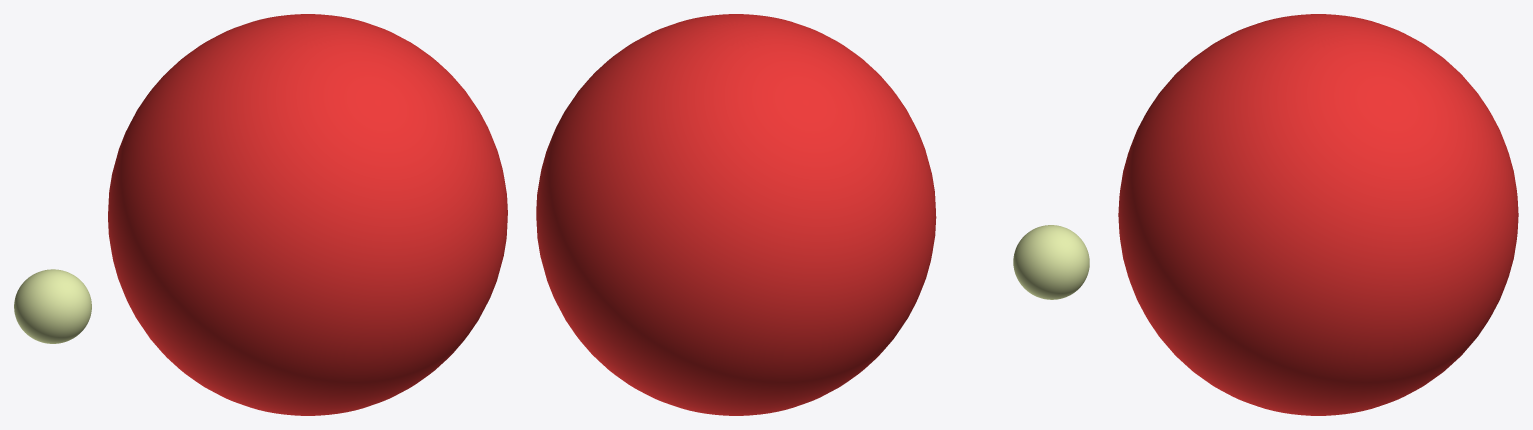
The model's file is OXYGEN.fbx.
The picture shows the model from 3 angles, left to right: view 1: azimuth 30°, elevation 25°; view 2: azimuth 150°, elevation 25°; view 3: azimuth 270°, elevation 25°; orthographic projection.
Parts seen in each view (by area): view 1: Sphere, Sphere.001; view 2: Sphere, Sphere.001; view 3: Sphere.
Boxes of the visible parts, bbox=[...] form: Sphere: bbox=[108, 14, 507, 415]; Sphere.001: bbox=[14, 269, 91, 343]; Sphere: bbox=[536, 14, 936, 415]; Sphere.001: bbox=[1013, 225, 1089, 299]; Sphere: bbox=[1118, 14, 1518, 415].
Size of the model in its own units: 280 by 200 by 197.
